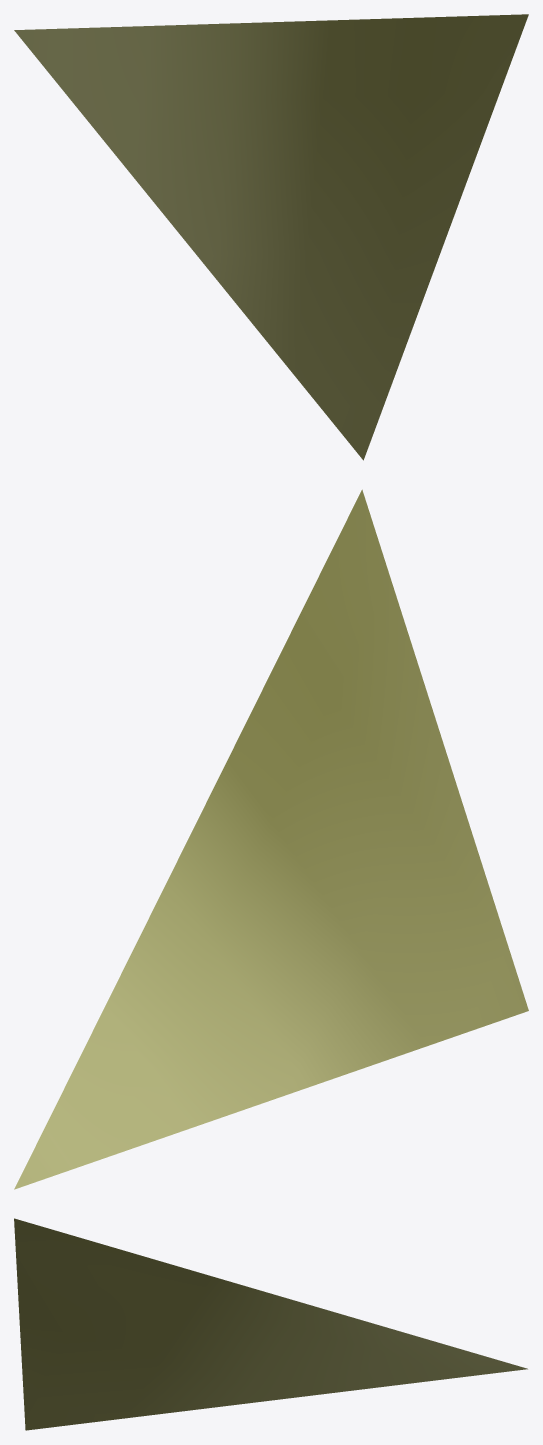
3 renders of one model, top to bottom at view 1: azimuth 30°, elevation 25°; view 2: azimuth 150°, elevation 25°; view 3: azimuth 270°, elevation 25°, orthographic. The views are drawn at different scales.
Size of the model in its own units: 0.013 by 0.033 by 0.0593.
1 material, 1 textured.
